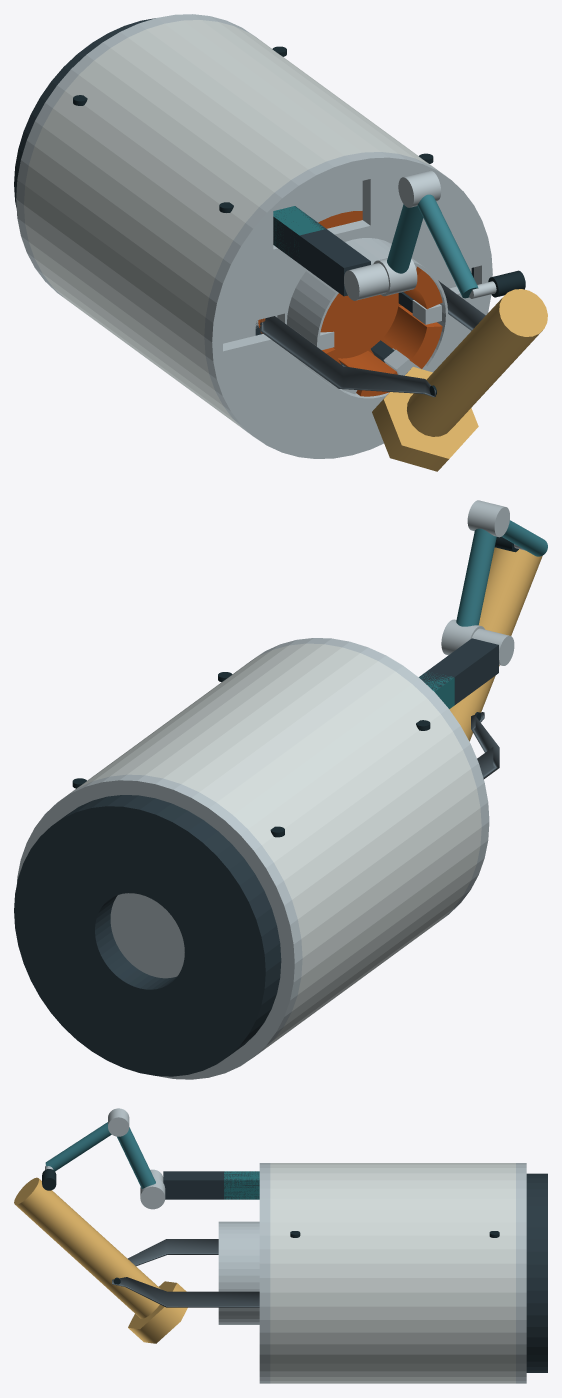
File: m10-r10-gripper.glb
3 renders of one model, top to bottom at view 1: azimuth 30°, elevation 25°; view 2: azimuth 150°, elevation 25°; view 3: azimuth 270°, elevation 25°, orthographic. The views are drawn at different scales.
Visible parts, largest first — view 1: cover-sleeve, front-plate-with-ports, held-bolt, tweezer-blade (×2), slim-nose-tube, thumb-column, rear-bulkhead, chuck-back-disc, feed-yoke, chuck-web-5, thumb-distal, thumb-proximal (+9 smaller); view 2: cover-sleeve, robot-adapter-ring, rear-bulkhead, held-bolt, front-plate-with-ports, thumb-column, thumb-proximal, thumb-joint-2, tweezer-blade, thumb-distal, thumb-joint-1, thumb-base-axle; view 3: cover-sleeve, held-bolt, robot-adapter-ring, slim-nose-tube, tweezer-blade (×2), front-plate-with-ports, rear-bulkhead, thumb-column, thumb-drive-envelope, thumb-proximal, thumb-distal, thumb-joint-2 (+1 smaller).
Boxes of the visible parts, x1,y1,x2,y2 form: cover-sleeve: [24, 20, 440, 429]; front-plate-with-ports: [204, 152, 492, 458]; held-bolt: [372, 289, 547, 471]; tweezer-blade (×2): [260, 280, 485, 397]; slim-nose-tube: [287, 238, 448, 400]; thumb-column: [273, 206, 370, 296]; rear-bulkhead: [16, 14, 257, 297]; chuck-back-disc: [333, 293, 401, 358]; feed-yoke: [223, 181, 471, 343]; chuck-web-5: [383, 306, 442, 368]; thumb-distal: [417, 194, 478, 298]; thumb-proximal: [387, 204, 423, 273]; cover-sleeve: [68, 643, 481, 1050]; robot-adapter-ring: [14, 795, 281, 1076]; rear-bulkhead: [16, 774, 302, 1079]; held-bolt: [449, 547, 542, 741]; front-plate-with-ports: [247, 638, 489, 918]; thumb-column: [419, 638, 498, 704]; thumb-proximal: [456, 528, 496, 626]; thumb-joint-2: [467, 500, 509, 537]; tweezer-blade: [471, 712, 499, 779]; thumb-distal: [502, 520, 547, 556]; thumb-joint-1: [441, 619, 484, 655]; thumb-base-axle: [472, 628, 514, 665]; cover-sleeve: [270, 1163, 515, 1383]; held-bolt: [14, 1177, 187, 1343]; robot-adapter-ring: [526, 1173, 547, 1372]; slim-nose-tube: [218, 1221, 259, 1324]; tweezer-blade (×2): [112, 1239, 259, 1307]; front-plate-with-ports: [259, 1163, 270, 1383]; rear-bulkhead: [516, 1163, 526, 1383]; thumb-column: [163, 1171, 259, 1199]; thumb-drive-envelope: [224, 1171, 259, 1199]; thumb-proximal: [117, 1127, 155, 1188]; thumb-distal: [45, 1122, 111, 1171]; thumb-joint-2: [108, 1108, 129, 1136].
Bounding box in the file's own units: 0.062 × 0.077 × 0.15.
